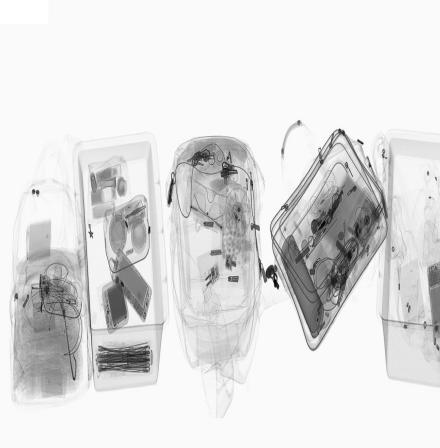Powerbank: (100, 274, 130, 334)
